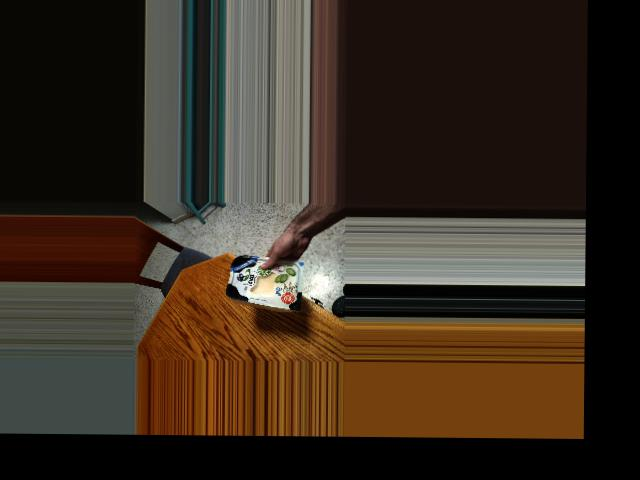cheese: (223, 254, 294, 307)
